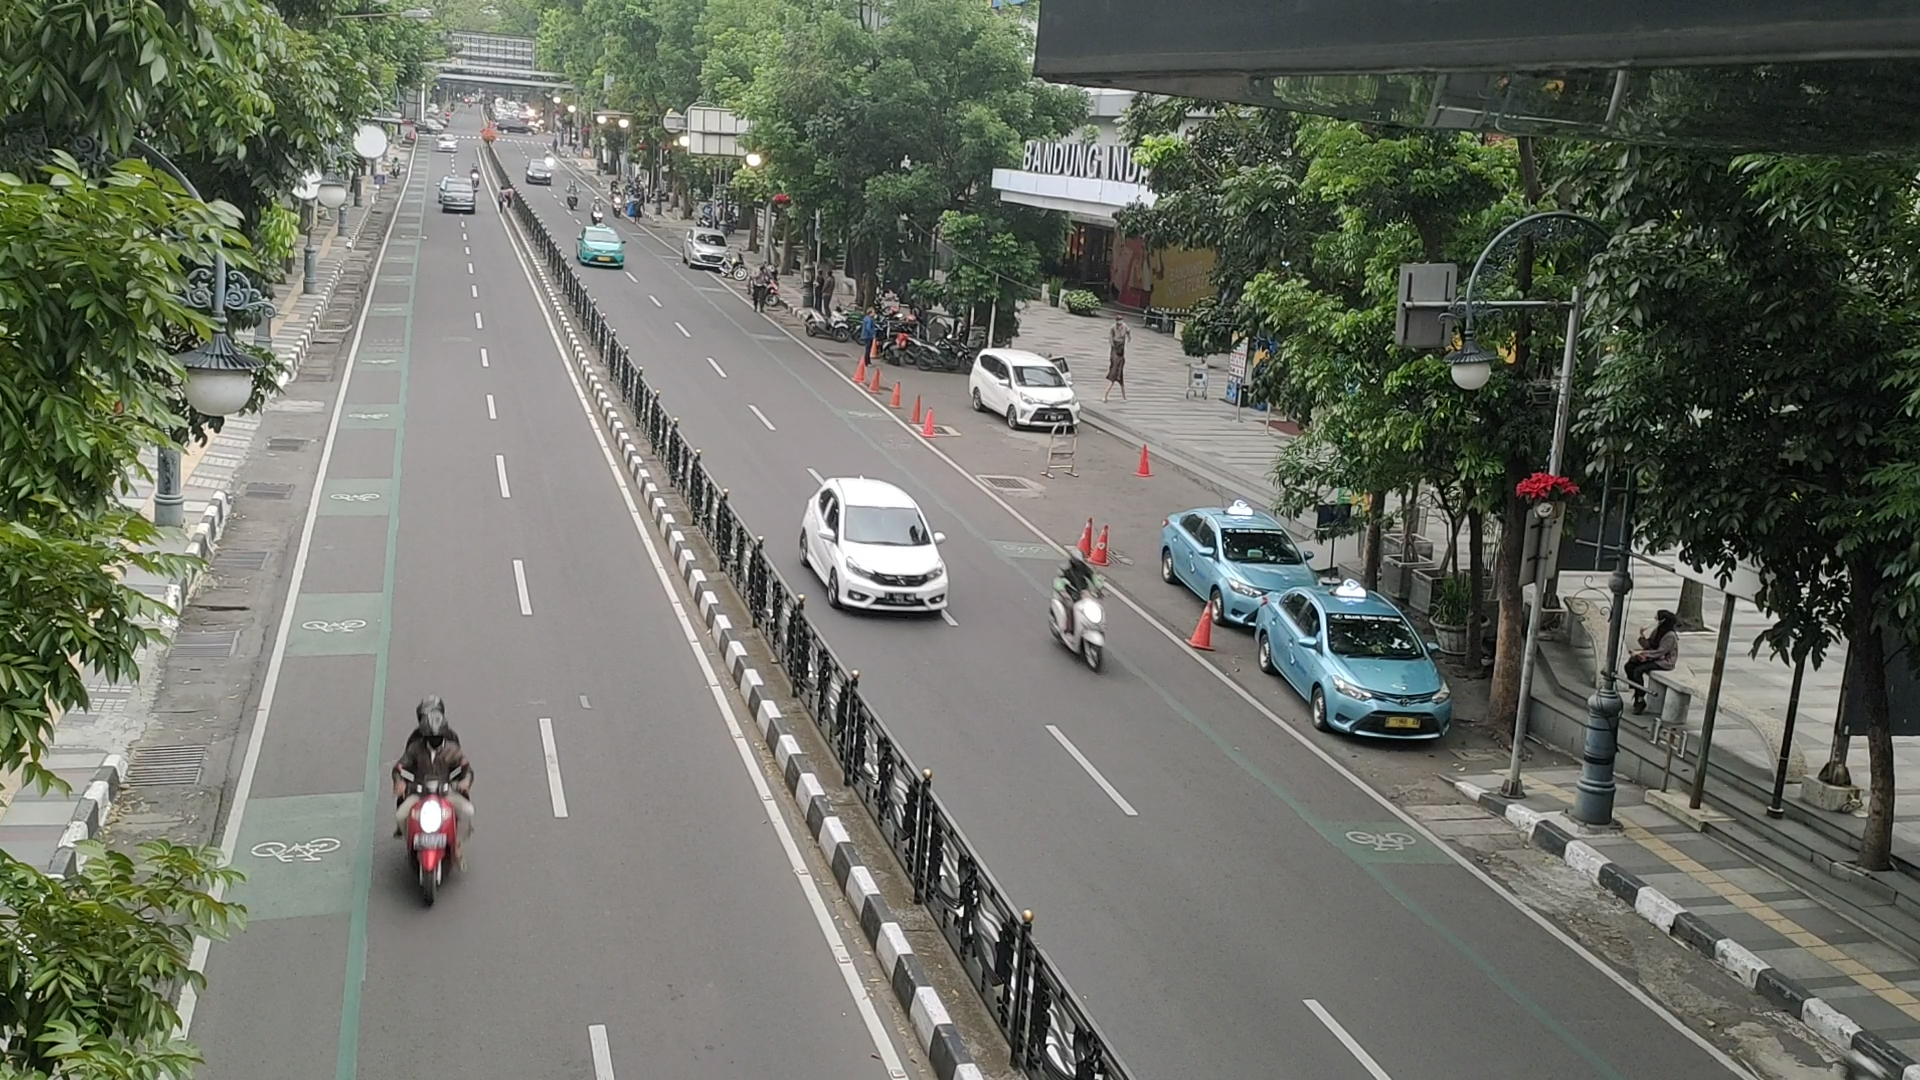mobil: (1305, 609, 1456, 745), (829, 497, 949, 624), (1007, 363, 1084, 433)
motor: (382, 690, 475, 914), (1050, 551, 1116, 676)
